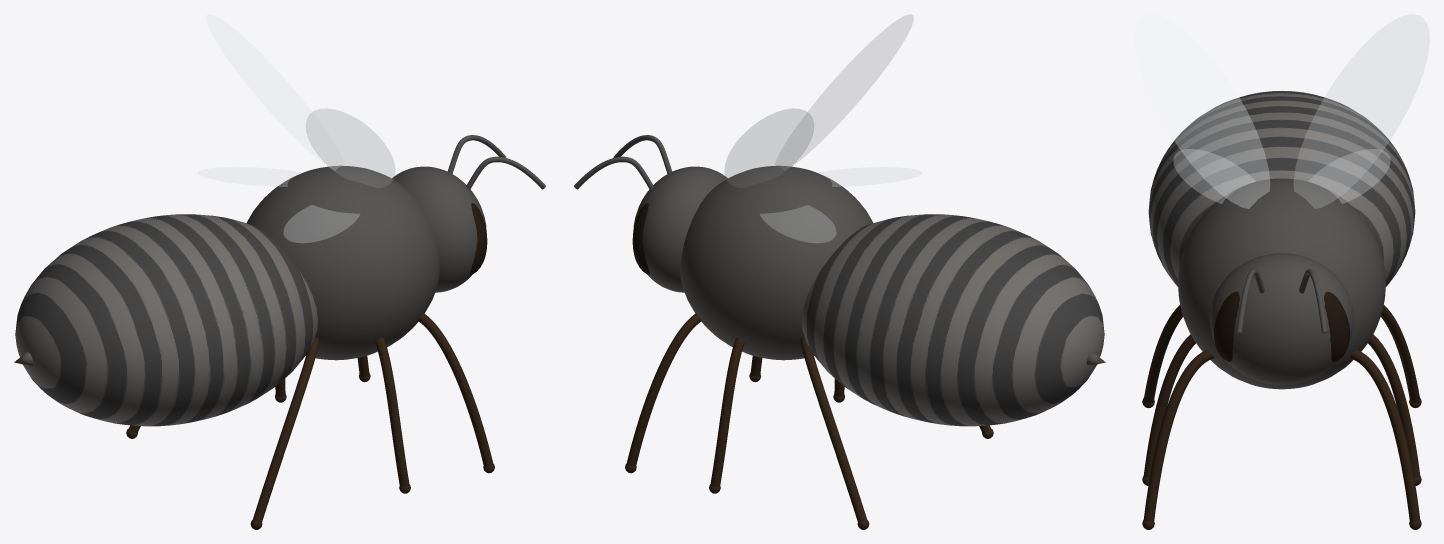
Rendered from bee-hero-megachile-low.glb.
3 views of the same model, side by side, from view 1: azimuth 30°, elevation 25°; view 2: azimuth 150°, elevation 25°; view 3: azimuth 270°, elevation 25° (orthographic). The views are drawn at different scales.
Parts seen in each view (by area): view 1: abdomen, thorax, head, foreWingL, foreWingR, hindLegR, hindWingR, foreLegR, midLegR, hindWingL, compoundEyeR; view 2: abdomen, thorax, head, foreWingR, foreWingL, hindLegL, hindWingL, foreLegL, midLegL, hindWingR, compoundEyeL; view 3: abdomen, thorax, foreWingL, foreWingR, head, hindWingL, hindWingR, foreLegL, foreLegR, midLegL, midLegR, compoundEyeL (+5 smaller).
Part boxes in pixels (left/top/right/bottom): abdomen: left=15, top=214, right=317, bottom=426; thorax: left=246, top=165, right=439, bottom=360; head: left=392, top=166, right=486, bottom=292; foreWingL: left=206, top=14, right=344, bottom=169; foreWingR: left=306, top=108, right=395, bottom=187; hindLegR: left=252, top=337, right=319, bottom=522; hindWingR: left=283, top=205, right=359, bottom=242; foreLegR: left=418, top=313, right=493, bottom=466; midLegR: left=375, top=338, right=409, bottom=486; hindWingL: left=198, top=167, right=302, bottom=186; compoundEyeR: left=470, top=203, right=487, bottom=274; abdomen: left=802, top=214, right=1104, bottom=426; thorax: left=680, top=165, right=873, bottom=360; head: left=633, top=166, right=727, bottom=292; foreWingR: left=775, top=14, right=913, bottom=169; foreWingL: left=724, top=108, right=813, bottom=187; hindLegL: left=800, top=337, right=867, bottom=522; hindWingL: left=760, top=205, right=836, bottom=242; foreLegL: left=626, top=313, right=701, bottom=466; midLegL: left=710, top=338, right=744, bottom=486; hindWingR: left=817, top=167, right=921, bottom=186; compoundEyeL: left=632, top=203, right=649, bottom=274; abdomen: left=1148, top=91, right=1415, bottom=286; thorax: left=1178, top=178, right=1385, bottom=389; foreWingL: left=1294, top=14, right=1429, bottom=208; foreWingR: left=1134, top=14, right=1269, bottom=208; head: left=1210, top=253, right=1353, bottom=384; hindWingL: left=1308, top=149, right=1390, bottom=203; hindWingR: left=1173, top=149, right=1255, bottom=203; foreLegL: left=1350, top=350, right=1420, bottom=521; foreLegR: left=1143, top=350, right=1213, bottom=521; midLegL: left=1368, top=334, right=1420, bottom=478; midLegR: left=1143, top=334, right=1195, bottom=478; compoundEyeL: left=1324, top=291, right=1350, bottom=361.
Size of the model in its own units: 0.8077 by 0.6076 by 0.377.
5 materials, 1 textured.
